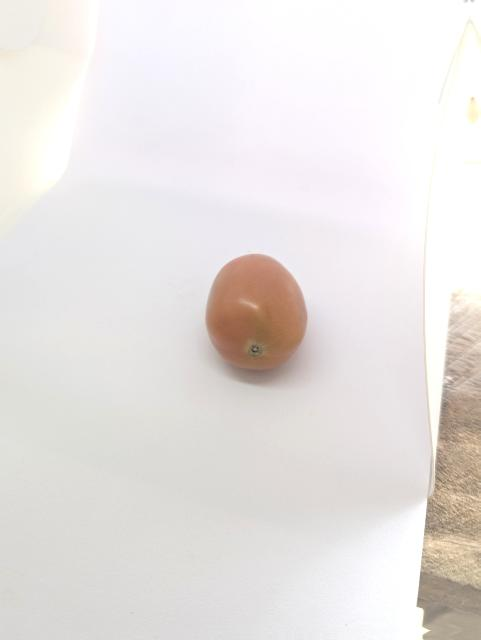turning: (195, 243, 316, 379)
